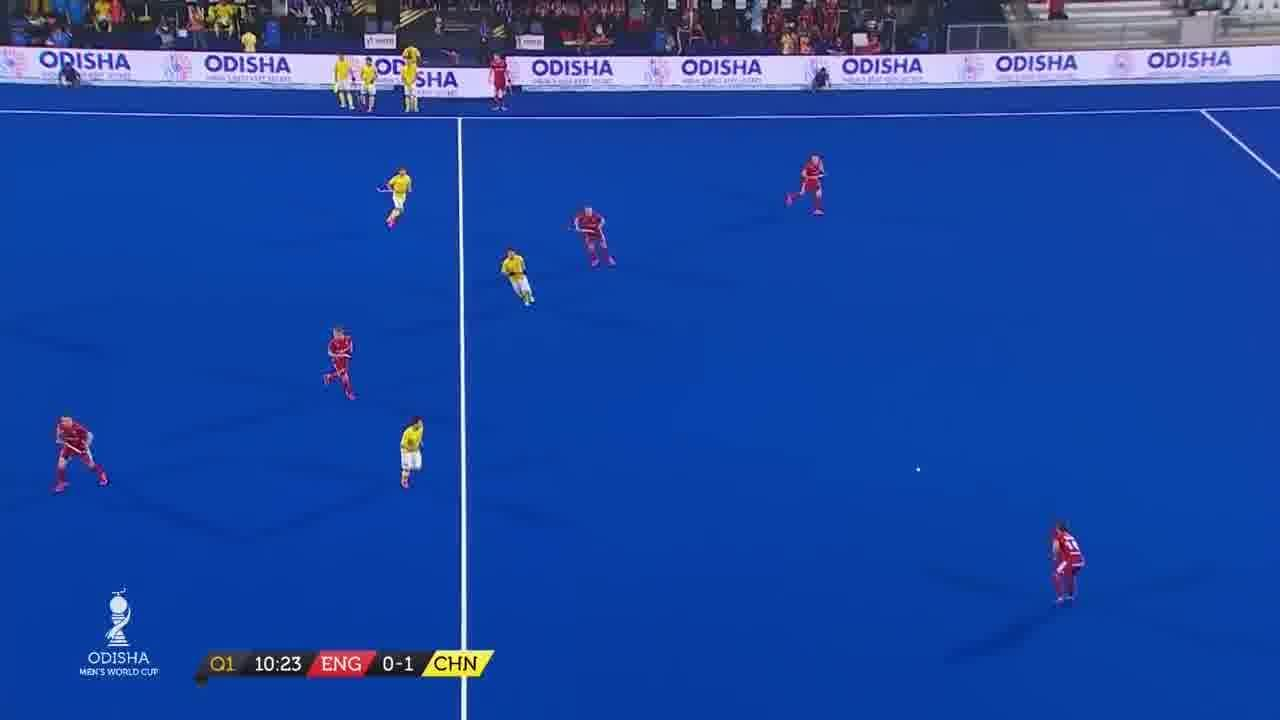ball: (911, 464, 928, 475)
